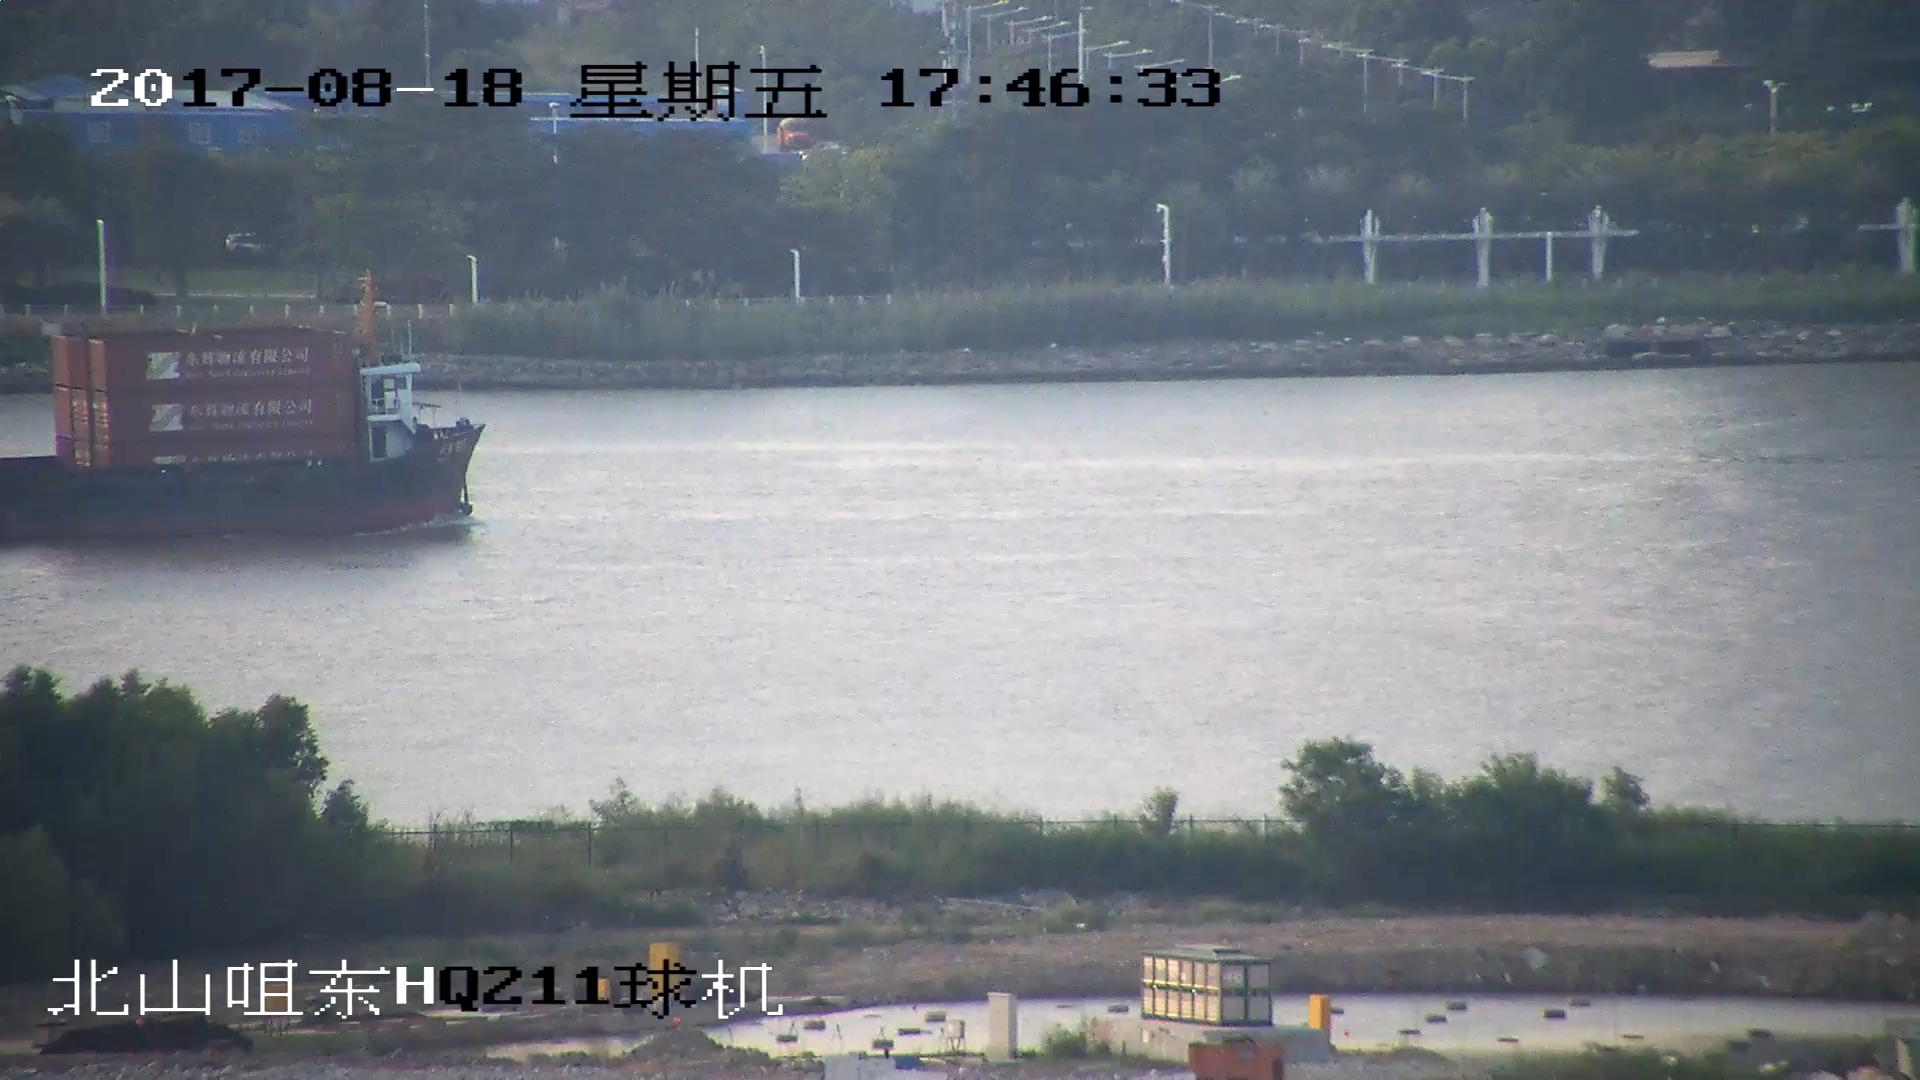container ship: (1, 281, 476, 539)
